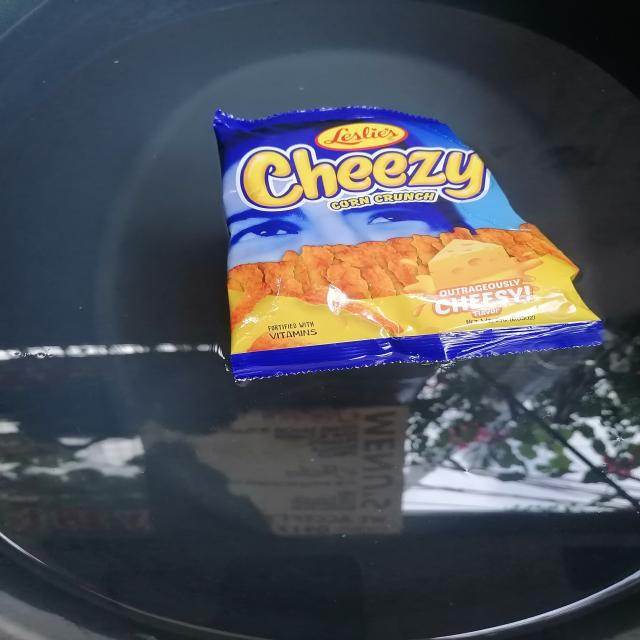Plastic Wrapper: (214, 107, 602, 379)
